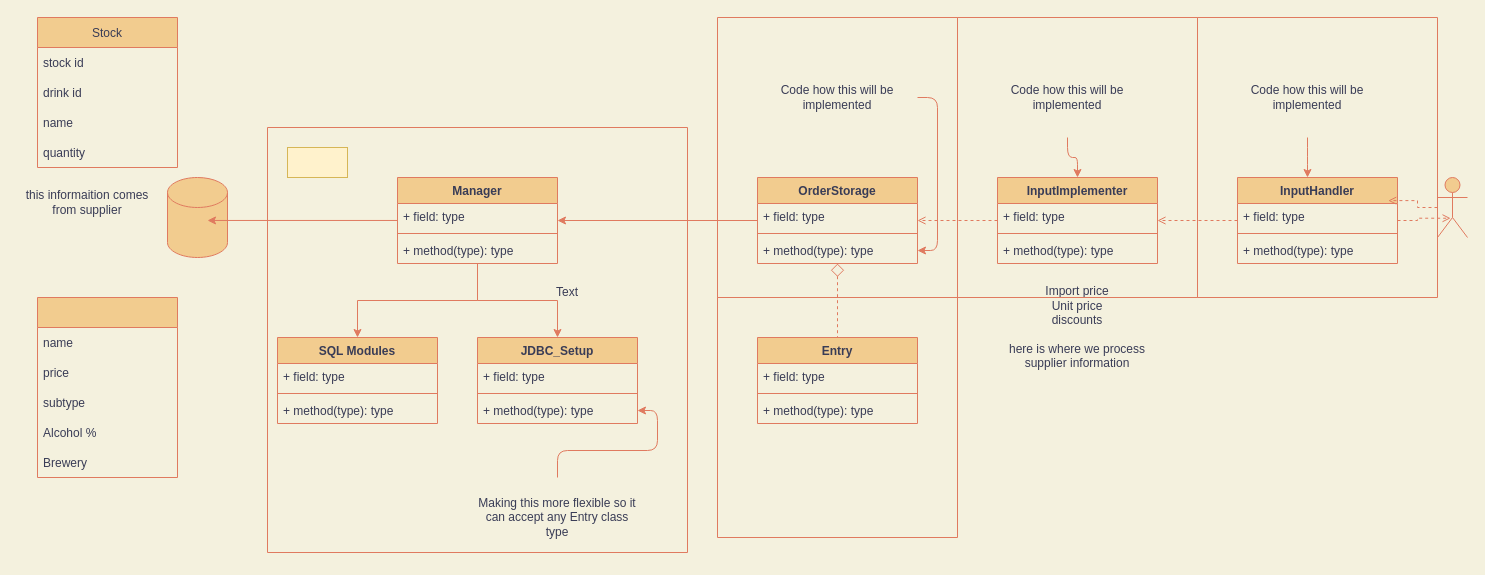
The diagram is 1485 pixels wide and 575 high, and some of its shapes have lost their labels. Each missing label, with the box of its shape:
Actor: (1436, 176, 1468, 238)
Beers: (36, 296, 178, 478)
Madi: (286, 146, 348, 178)
SQL: (166, 176, 228, 258)
